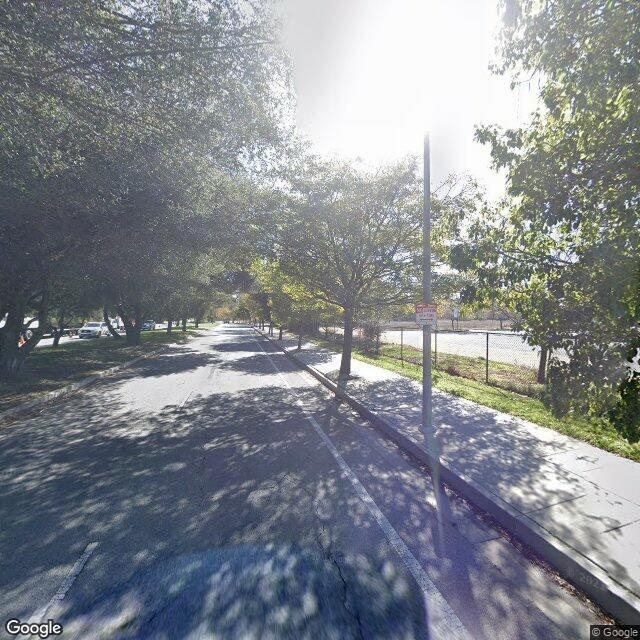pothole: (282, 437, 358, 632)
